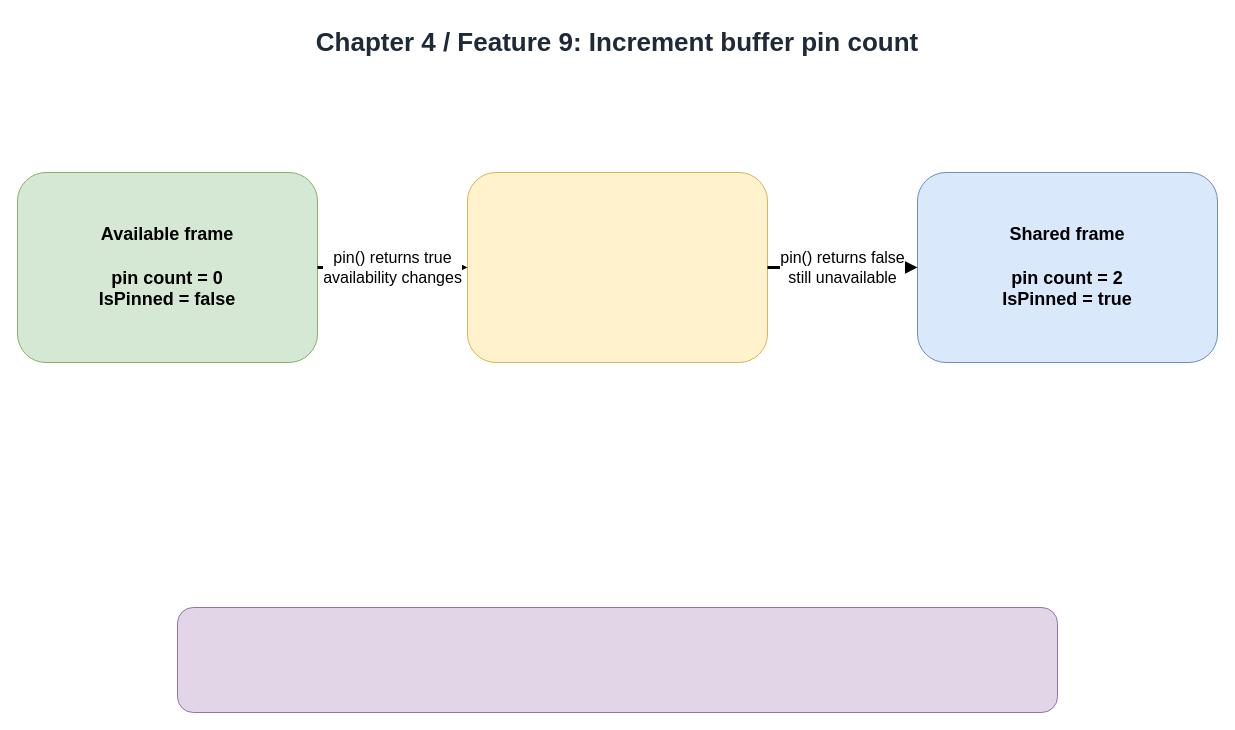
Some shapes in this 1235 by 730 pixel diagram are drawn without their labels. The shapes that lost their labels are listed below. From the top down, each one's box as (x1, y1, x2, y2) in pixels, then its label:
(466, 172, 768, 362): Pinned frame pin count = 1 IsPinned = true
(176, 606, 1058, 712): Only the atomic 0 → 1 transition removes a frame from the available pool.
